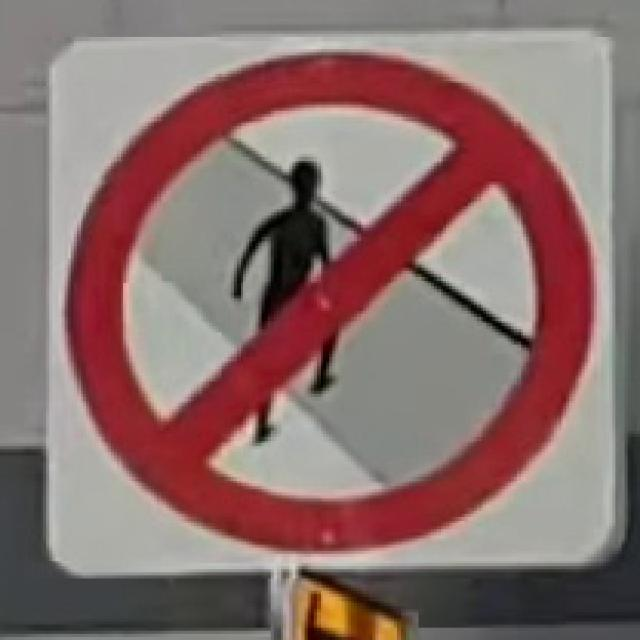nojaywalking_sign: (40, 28, 618, 572)
